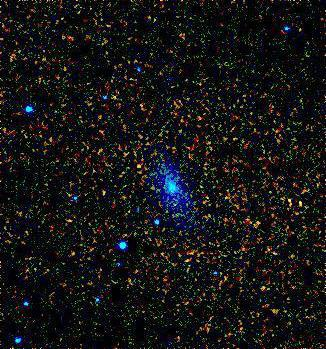star: (123, 154, 153, 184)
